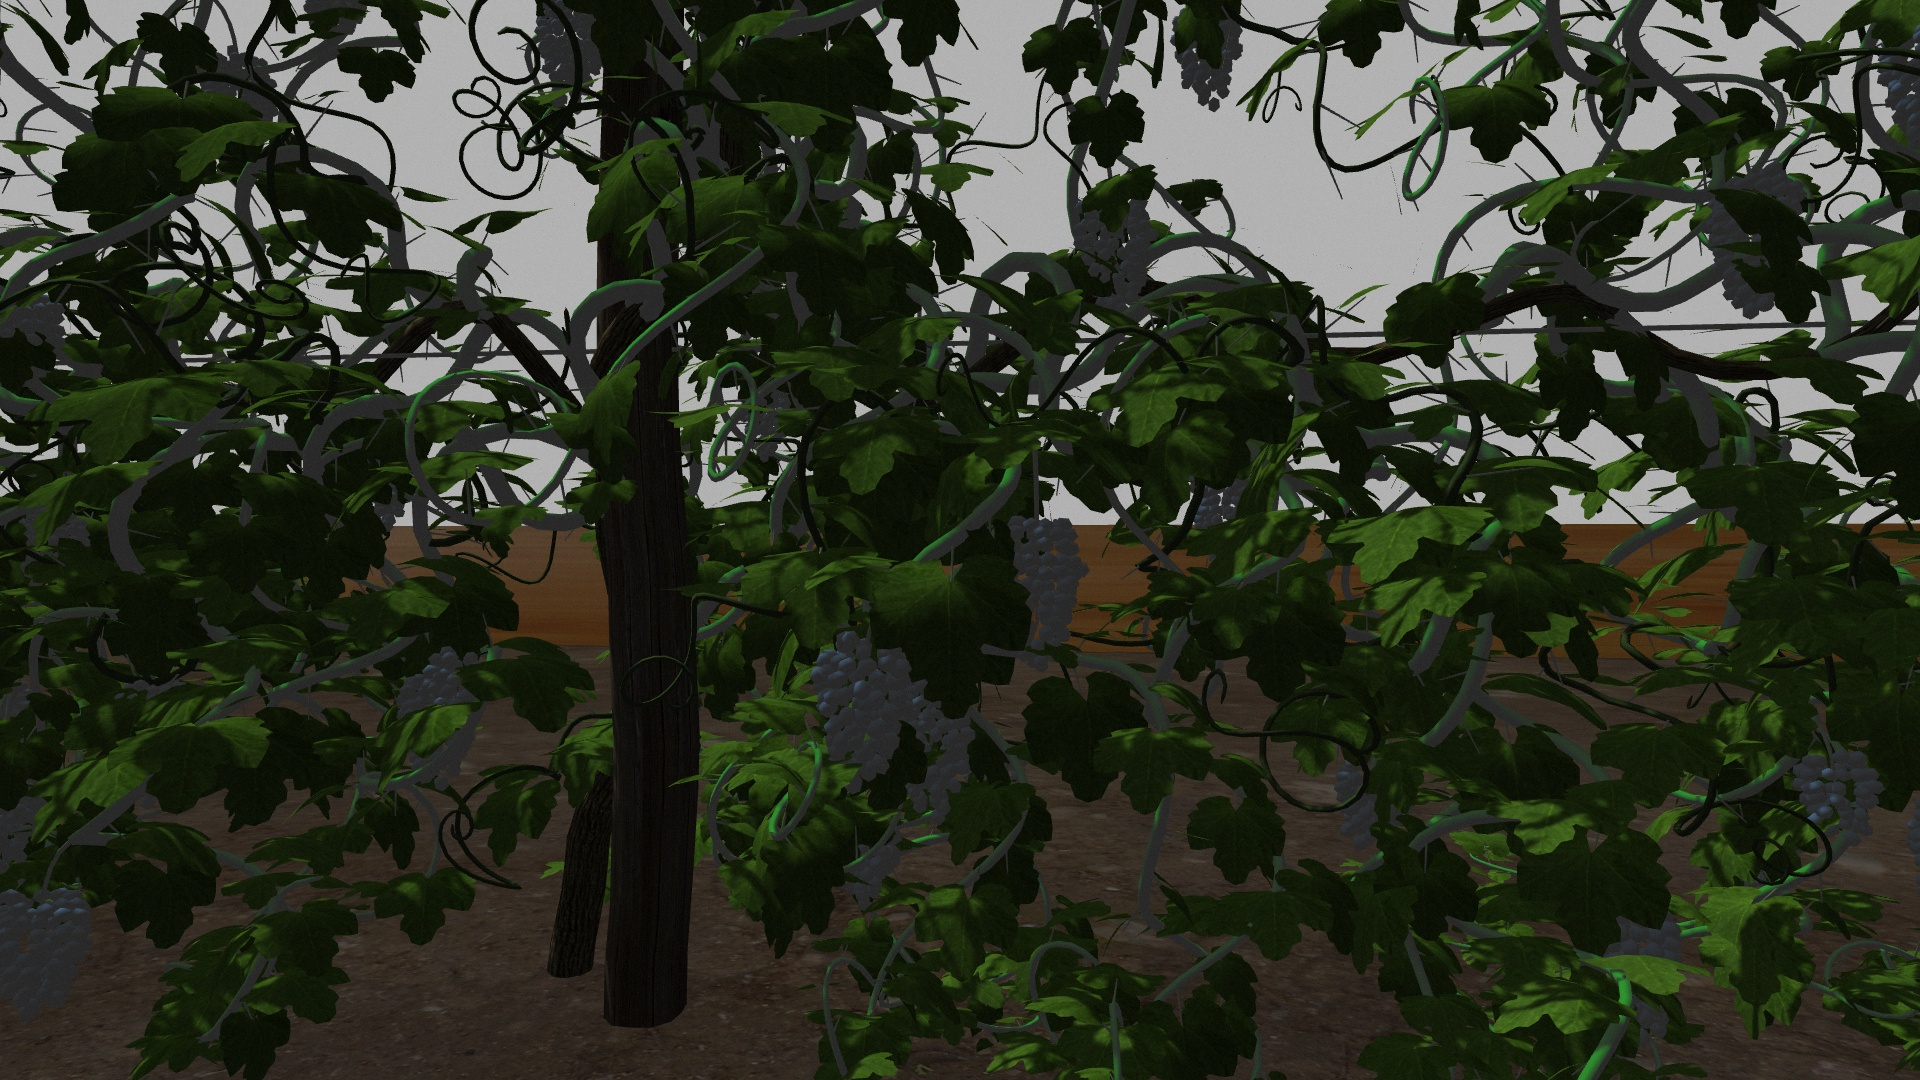grape: (808, 629, 910, 785), (1706, 165, 1804, 319), (392, 646, 483, 789), (1009, 514, 1092, 647), (902, 680, 975, 822), (7, 890, 96, 1000), (1072, 193, 1159, 295), (1799, 742, 1880, 851), (1176, 11, 1249, 109), (531, 9, 604, 99)
